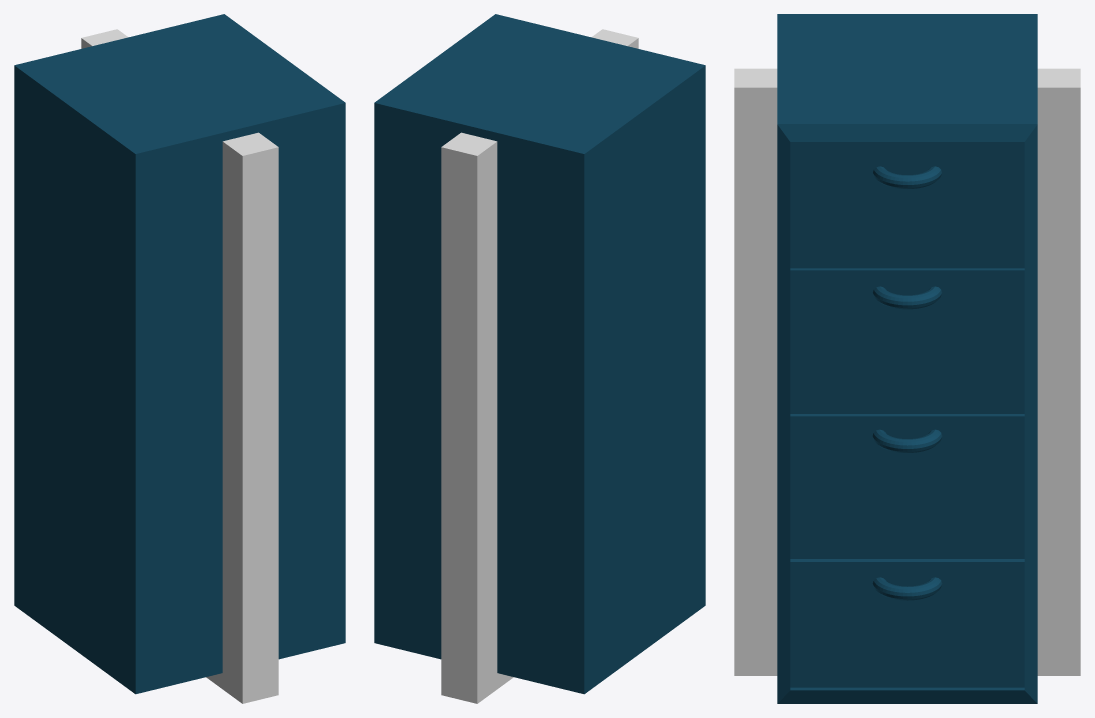
File: door.fbx
3 renders of one model, left to right at view 1: azimuth 30°, elevation 25°; view 2: azimuth 150°, elevation 25°; view 3: azimuth 270°, elevation 25°, orthographic. The views are drawn at different scales.
Parts seen in each view (by area): view 1: Cube, Cube.001; view 2: Cube, Cube.001; view 3: Cube, Cube.001.
Boxes of the visible parts, left/top/right/bottom form: Cube: left=14, top=14, right=345, bottom=694; Cube.001: left=81, top=29, right=278, bottom=703; Cube: left=374, top=14, right=705, bottom=694; Cube.001: left=441, top=29, right=638, bottom=703; Cube: left=777, top=14, right=1037, bottom=703; Cube.001: left=734, top=68, right=1080, bottom=675.
Size of the model in its own units: 191 by 435 by 228.
